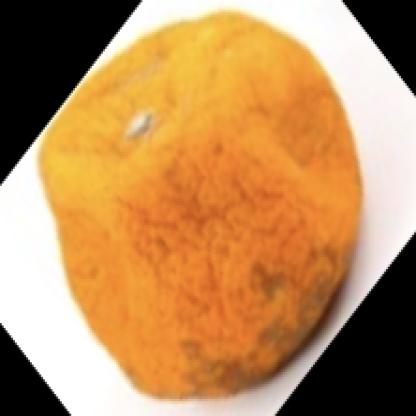rotten: (41, 13, 363, 393)
